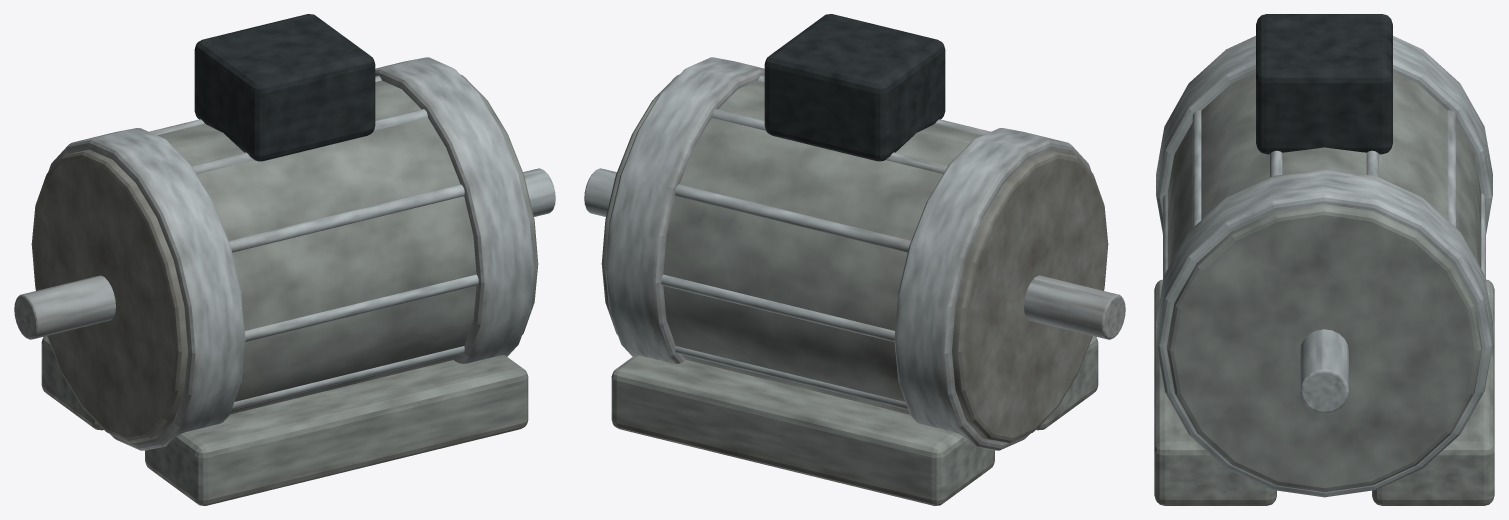
The model's file is GR_SalvagedMotor_04.glb.
3 renders of one model, left to right at view 1: azimuth 30°, elevation 25°; view 2: azimuth 150°, elevation 25°; view 3: azimuth 270°, elevation 25°, orthographic. The views are drawn at different scales.
Visible parts, largest first — view 1: Static; view 2: Static; view 3: Static.
Boxes of the visible parts, x1=… form: Static: x1=14, y1=14, x2=555, y2=505; Static: x1=584, y1=14, x2=1125, y2=505; Static: x1=1154, y1=14, x2=1494, y2=505.
Size of the model in its own units: 0.36 by 0.2405 by 0.194.
Materials: 1 (1 with a texture image).
